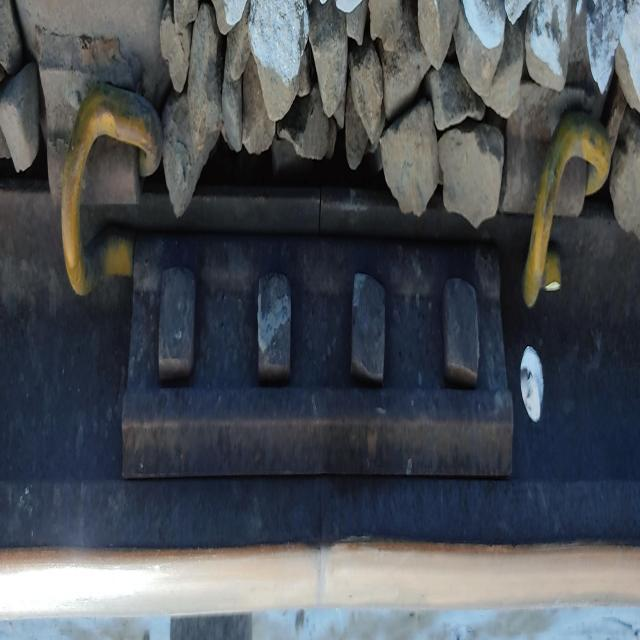Good Fasteners: (499, 80, 614, 307), (61, 82, 162, 295)
Good Joint: (129, 231, 514, 468)
